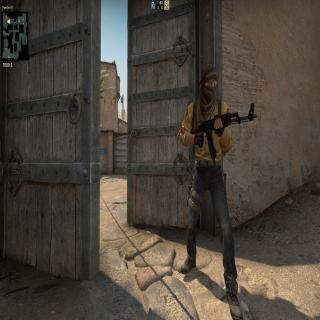T-Head: (198, 59, 220, 107)
